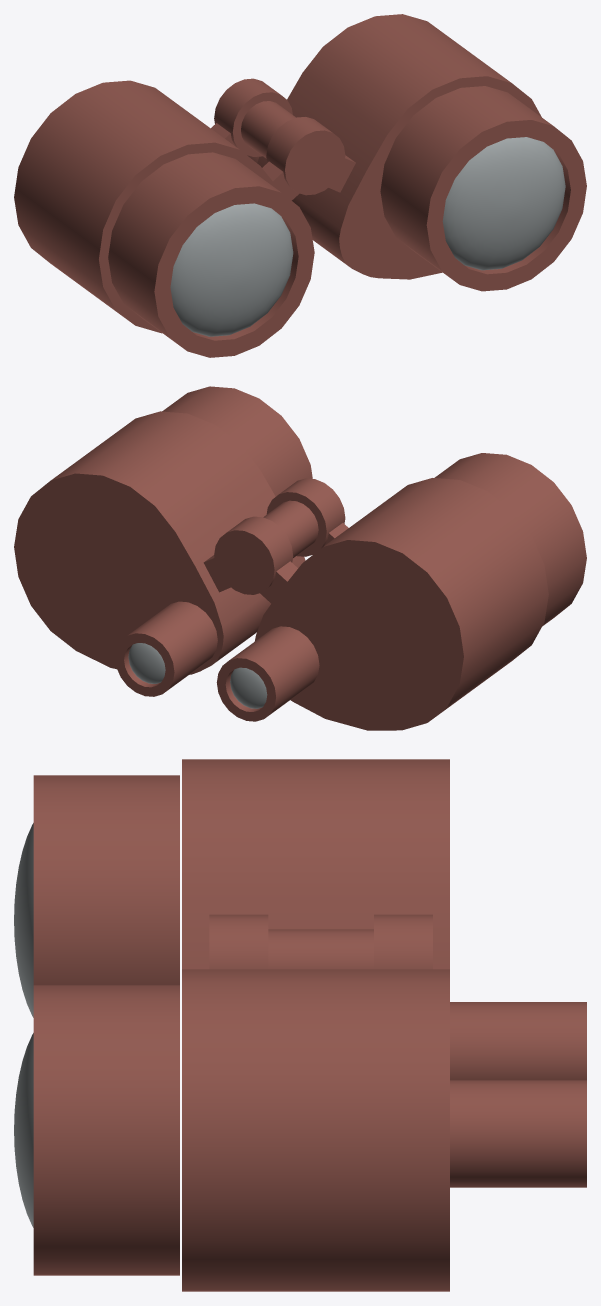
The model's file is binoculars_LowPoly_1_11.fbx.
3 renders of one model, top to bottom at view 1: azimuth 30°, elevation 25°; view 2: azimuth 150°, elevation 25°; view 3: azimuth 270°, elevation 25°, orthographic. The views are drawn at different scales.
Visible parts, largest first — view 1: pCube4, pCube3, pSphere4, pSphere1, pCylinder5; view 2: pCube3, pCube4, pCylinder5, pSphere3, pSphere2; view 3: pCube4, pCube3, pCylinder5, pSphere1, pSphere4.
Boxes of the visible parts, bbox=[...] form: pCube4: bbox=[247, 14, 586, 291]; pCube3: bbox=[14, 80, 314, 357]; pSphere4: bbox=[170, 203, 293, 336]; pSphere1: bbox=[442, 137, 565, 270]; pCylinder5: bbox=[214, 78, 345, 195]; pCube3: bbox=[216, 453, 586, 730]; pCube4: bbox=[14, 386, 312, 696]; pCylinder5: bbox=[214, 478, 345, 594]; pSphere3: bbox=[230, 667, 267, 708]; pSphere2: bbox=[128, 643, 165, 683]; pCube4: bbox=[33, 969, 586, 1291]; pCube3: bbox=[33, 759, 586, 1080]; pCylinder5: bbox=[209, 914, 432, 969]; pSphere1: bbox=[14, 1033, 33, 1227]; pSphere4: bbox=[14, 823, 33, 1017].
Size of the model in its own units: 1.4 by 0.5656 by 0.976.
